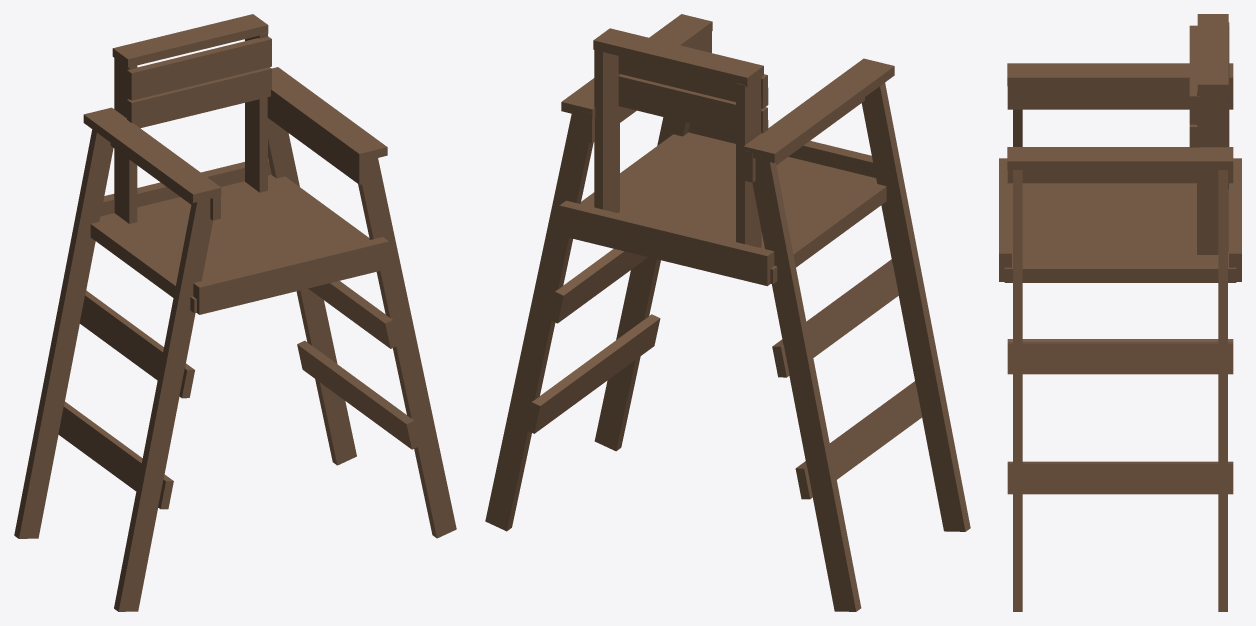
The model's file is sillasalva.fbx.
3 renders of one model, left to right at view 1: azimuth 30°, elevation 25°; view 2: azimuth 150°, elevation 25°; view 3: azimuth 270°, elevation 25°, orthographic. The views are drawn at different scales.
Parts seen in each view (by area): view 1: SillaSalvaVidas; view 2: SillaSalvaVidas; view 3: SillaSalvaVidas.
Boxes of the visible parts, <box> form: SillaSalvaVidas: <box>14,14,456,611</box>; SillaSalvaVidas: <box>485,14,970,611</box>; SillaSalvaVidas: <box>999,14,1241,611</box>.
Bounding box in the file's own units: 1060 × 1399 × 639.
